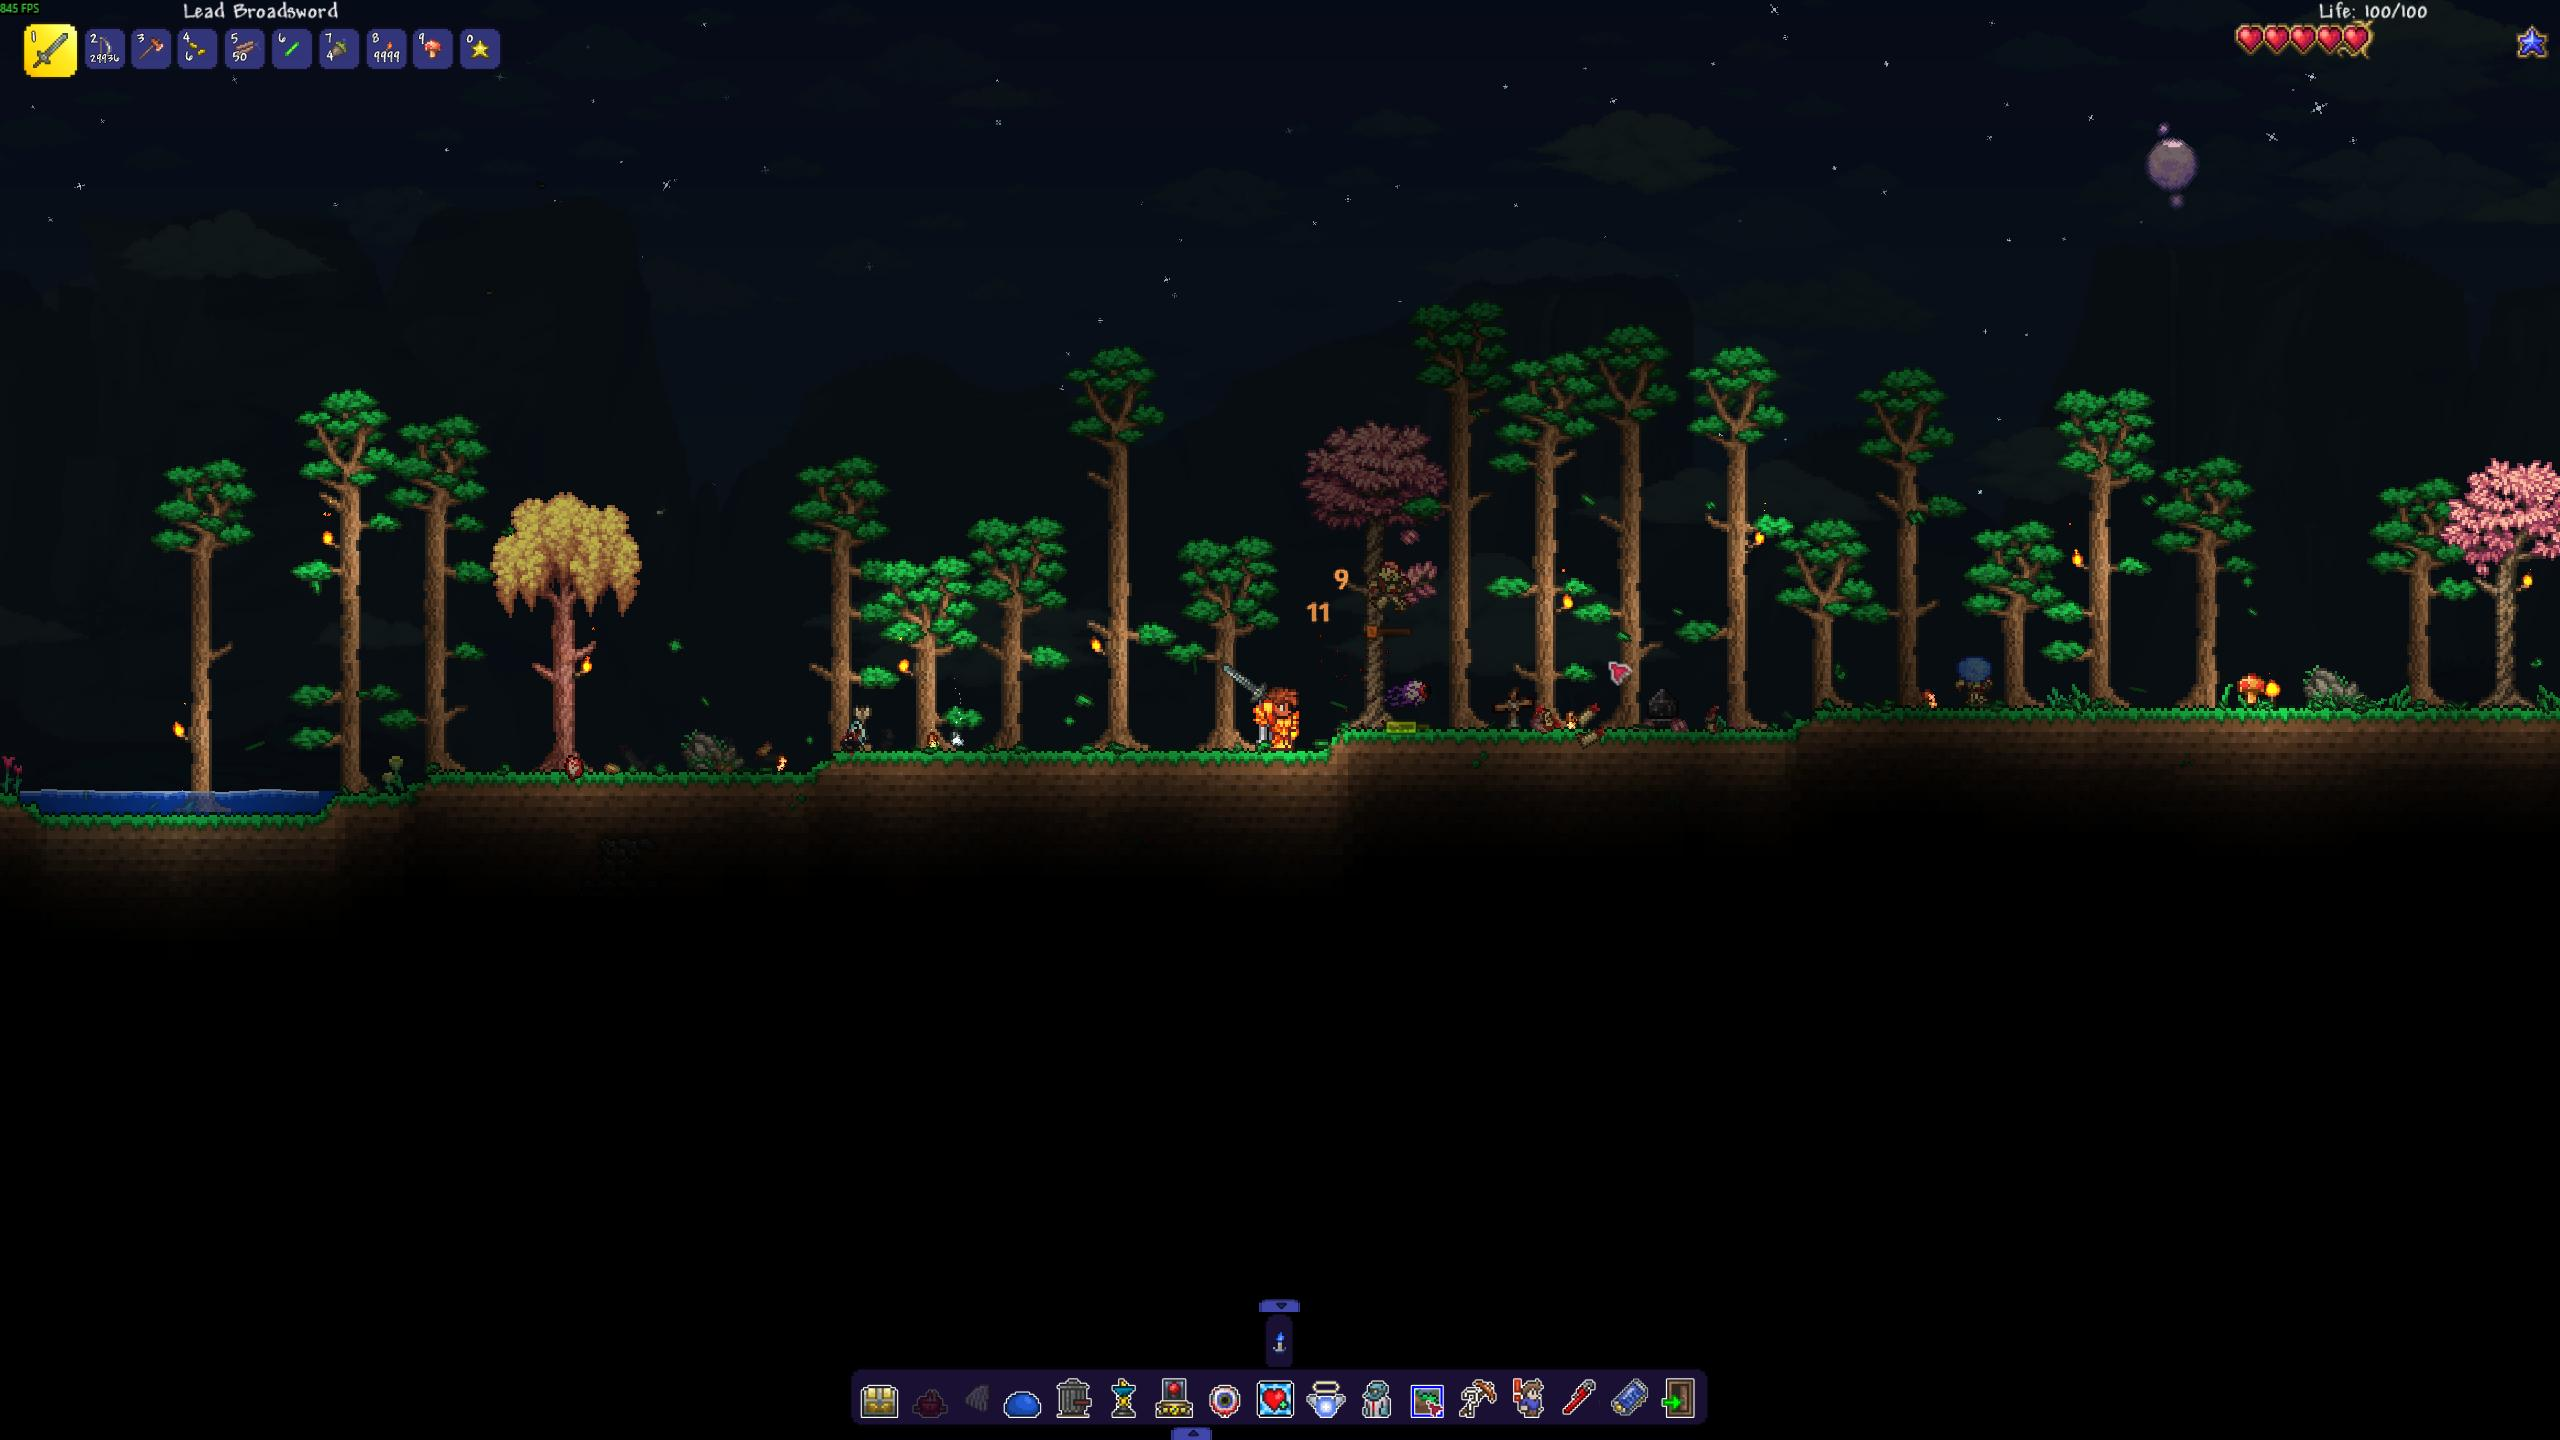Demon Eye: (1378, 679, 1431, 710)
Zombie: (1366, 552, 1408, 624), (1953, 654, 1996, 703)
